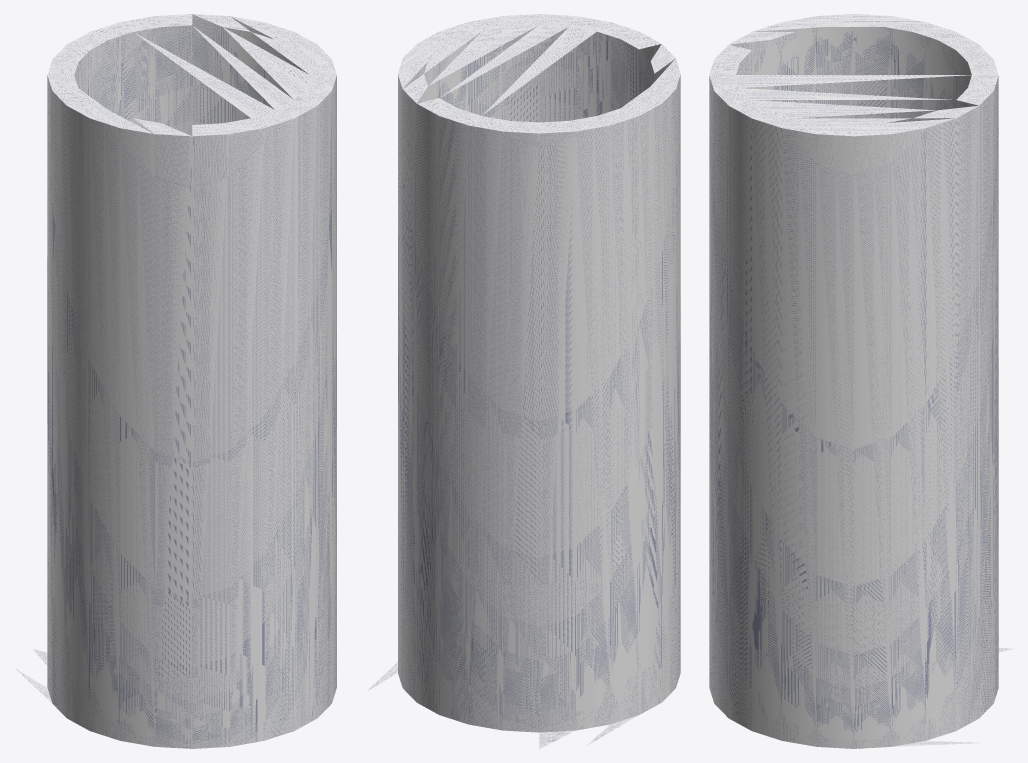
The picture shows the model from 3 angles, left to right: view 1: azimuth 30°, elevation 25°; view 2: azimuth 150°, elevation 25°; view 3: azimuth 270°, elevation 25°; orthographic projection. The views are drawn at different scales.
Size of the model in its own units: 0.081 by 0.1893 by 0.0852.
